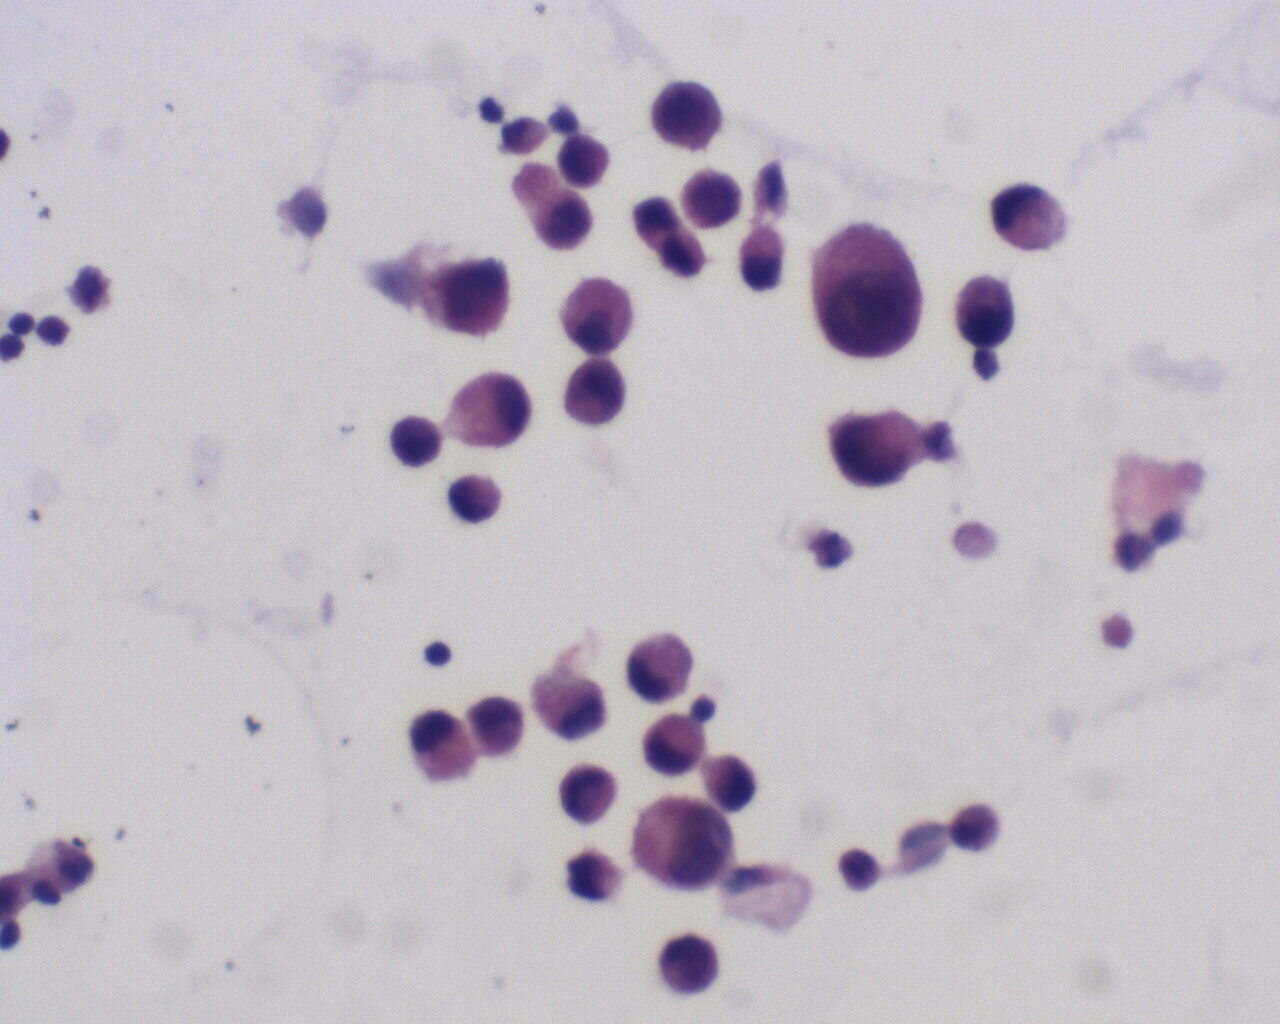ab: (805, 218, 923, 362), (631, 788, 732, 891), (423, 245, 517, 341), (827, 408, 923, 490), (948, 269, 1026, 350), (650, 76, 728, 156), (555, 354, 632, 427), (655, 930, 727, 997), (557, 763, 620, 827), (683, 165, 744, 228), (701, 749, 759, 812), (389, 413, 447, 470), (556, 134, 611, 190)
histo: (990, 177, 1073, 261), (450, 370, 535, 452), (625, 627, 697, 703)
lymph: (422, 636, 453, 673)
